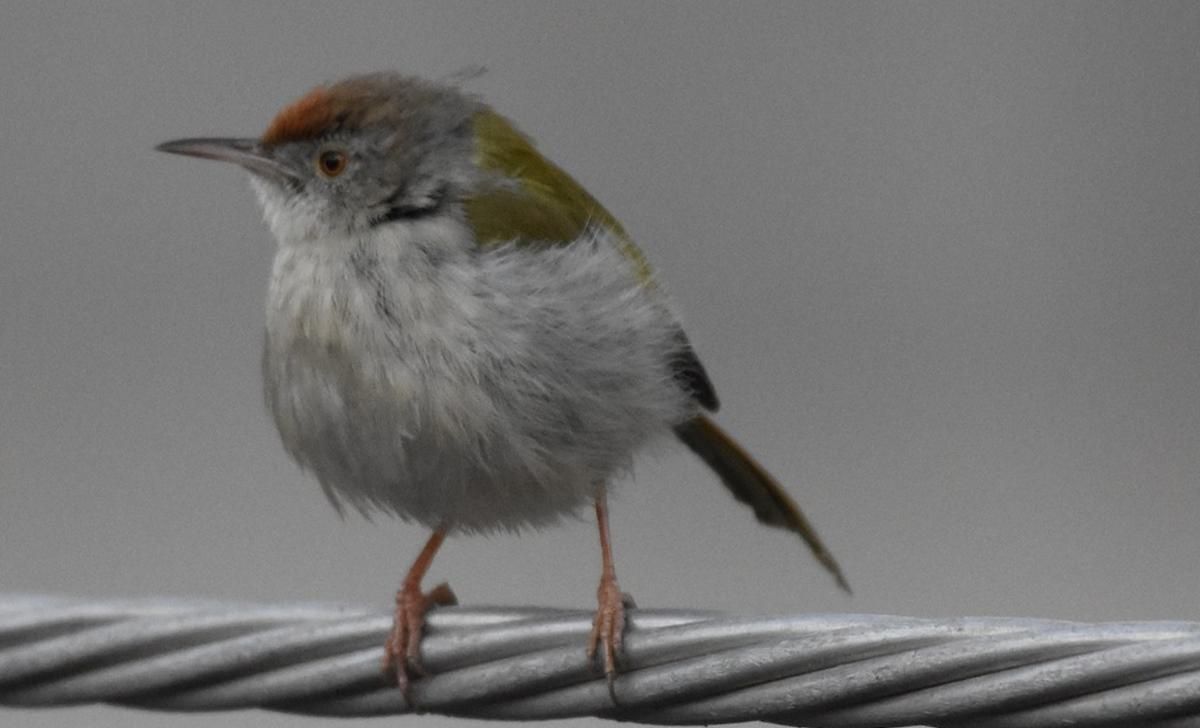tailorbird: (149, 52, 848, 654)
